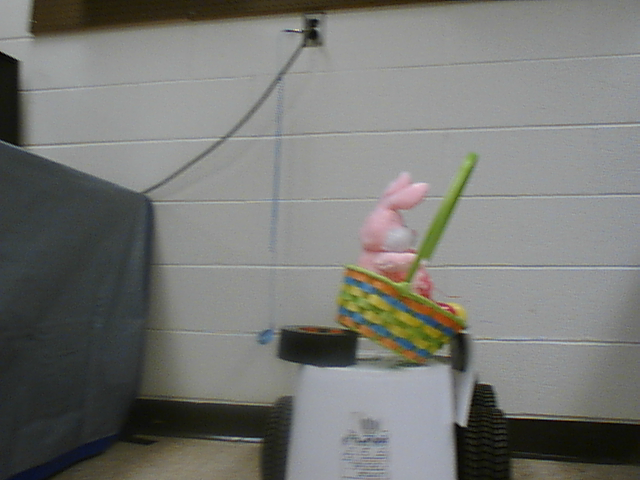bunny: (327, 142, 486, 361)
